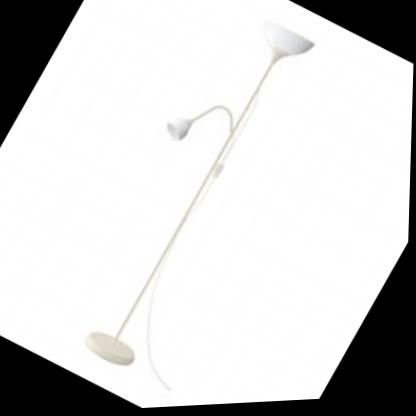Lamp: (32, 0, 351, 402)
